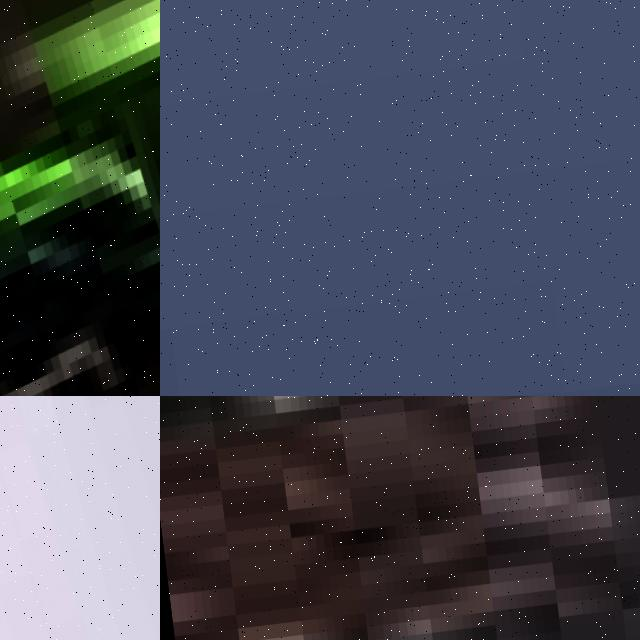drone: (0, 0, 160, 396), (0, 396, 160, 640)
